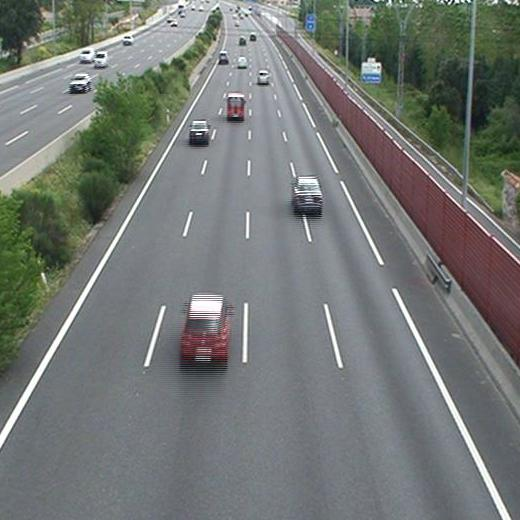car: (182, 295, 230, 358), (292, 177, 322, 208), (189, 121, 210, 138), (257, 70, 271, 84), (236, 56, 247, 66), (219, 52, 228, 61), (238, 36, 246, 46)
van: (226, 94, 245, 118)
